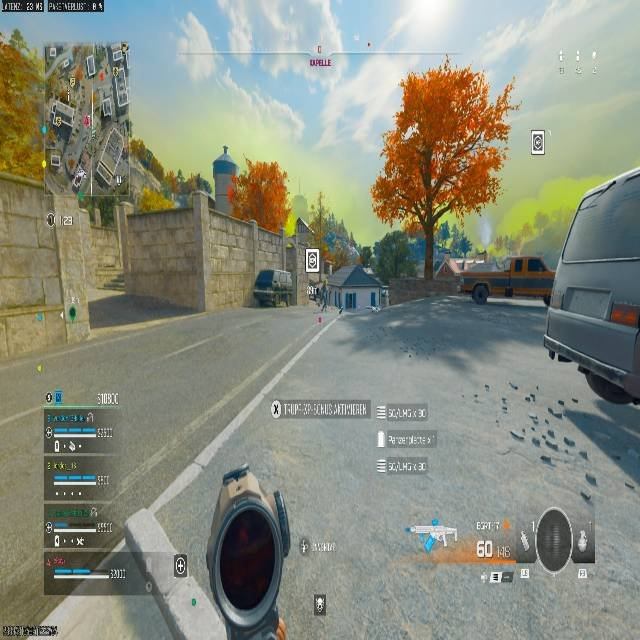player: (472, 280, 489, 305)
